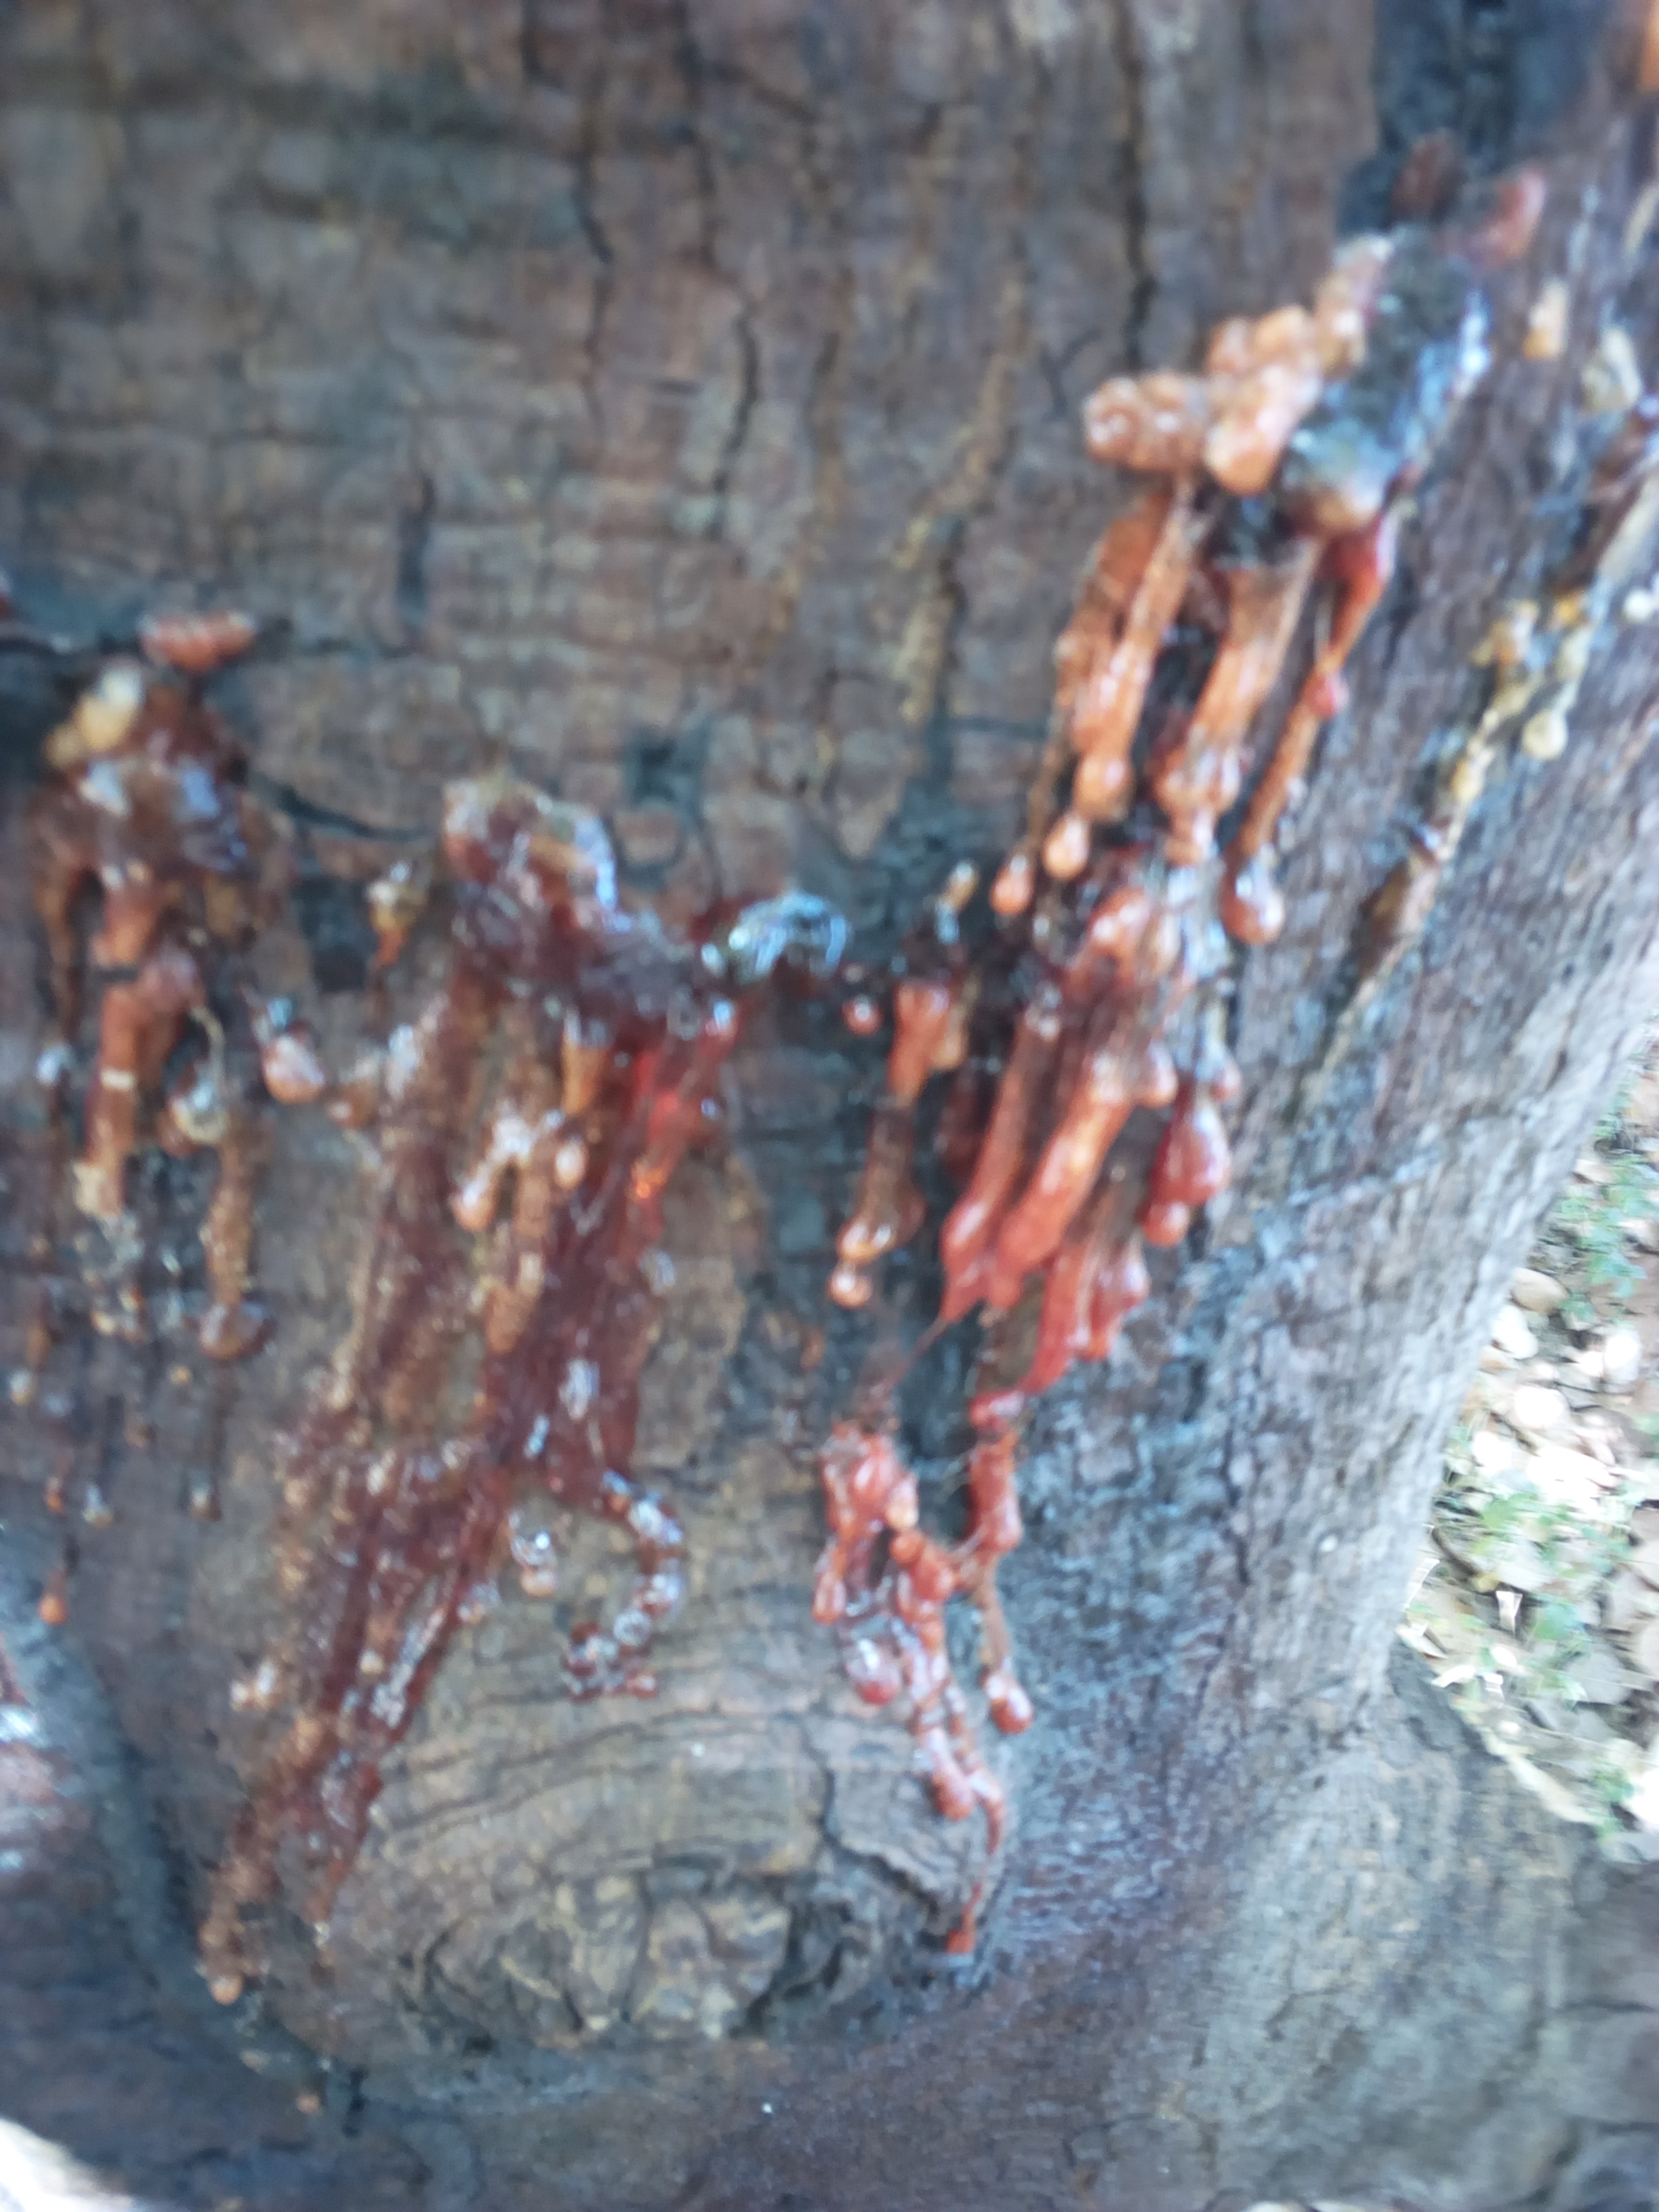Gommose: (23, 37, 1624, 2212)
